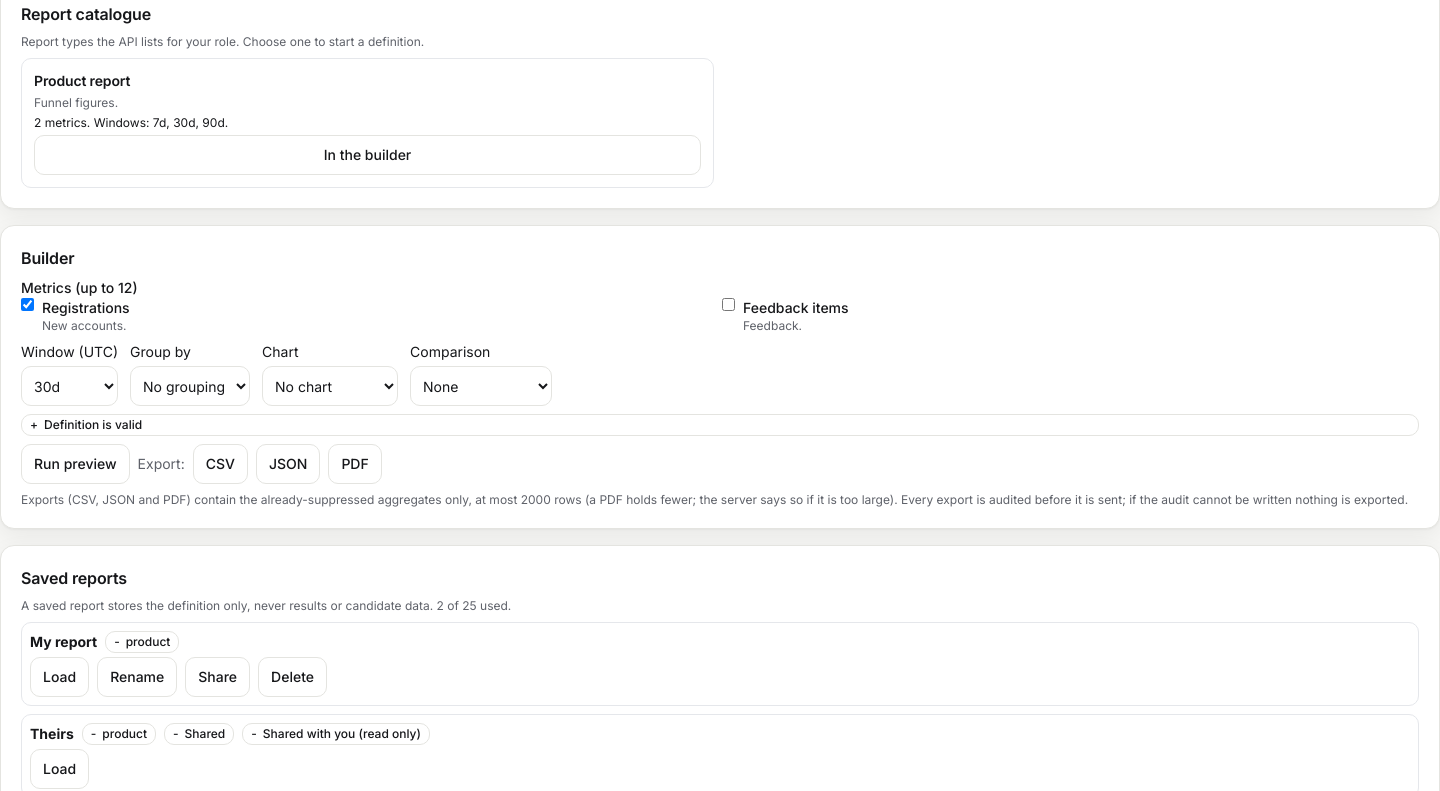
Test: saved configuration management › a revision conflict is shown and nothing is overwritten; a shared item is read only; an invalid one cannot be loaded
Expected: the heading "Builder" is shown, [21, 248, 74, 268]
Expected: the text "Definition is valid" is shown, [44, 417, 142, 432]
Click the button with aria-label "Share My report". click: (218, 677)
box: [185, 657, 250, 697]
(page scrolled)
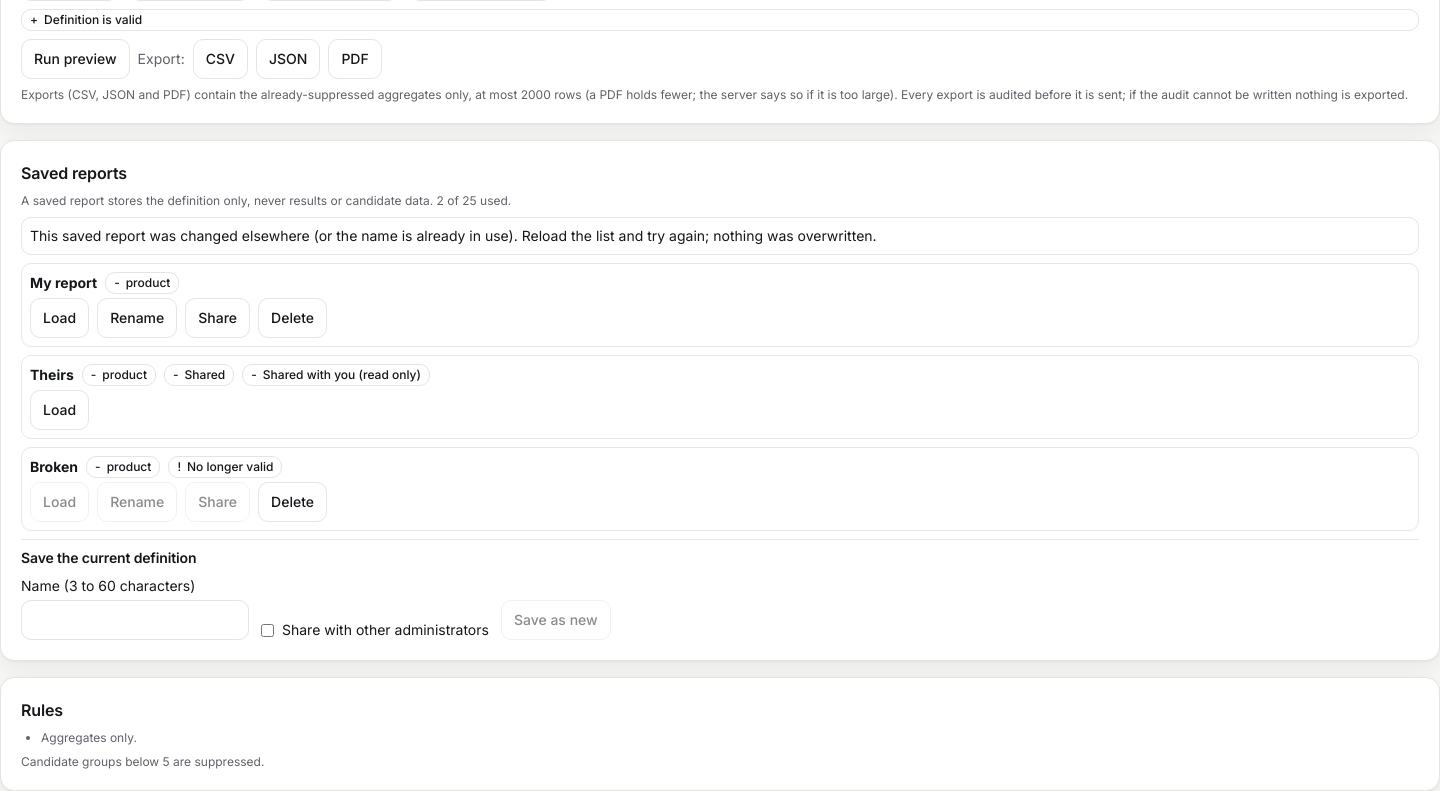
Expected: the text "Shared with you (read only)" is shown, [263, 367, 421, 382]
Expected: the text "changed elsewhere" is shown, [30, 227, 877, 244]
